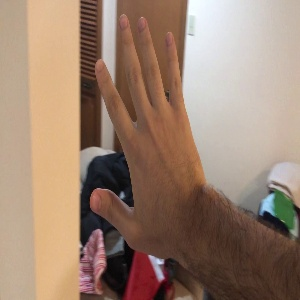hand: (89, 14, 206, 250)
